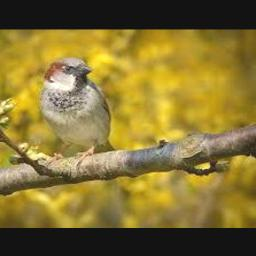Sparrow: (40, 57, 117, 159)
